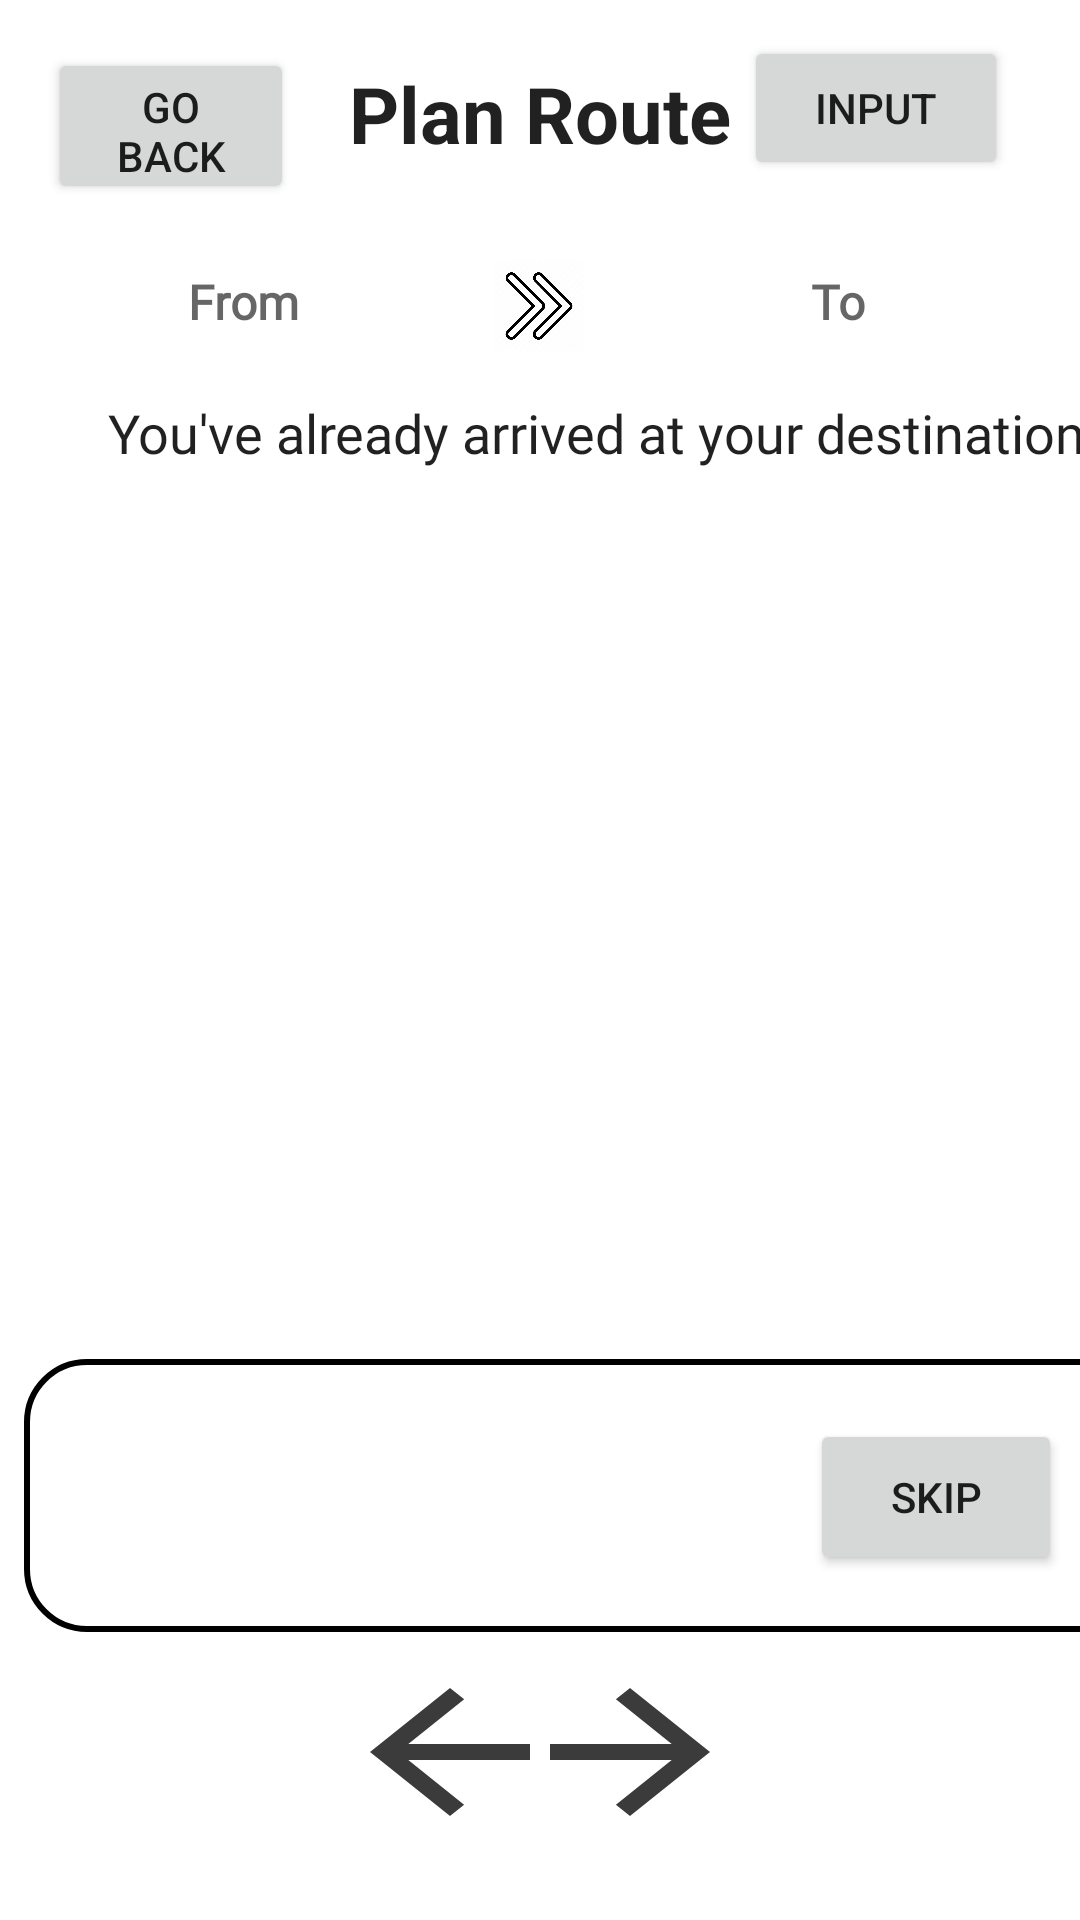

Icons on this 1080px x 1920px Android screen, each with the point to tap as point (x, y):
arrow: point (539, 306)
next: point (630, 1752)
pre: point (450, 1752)
